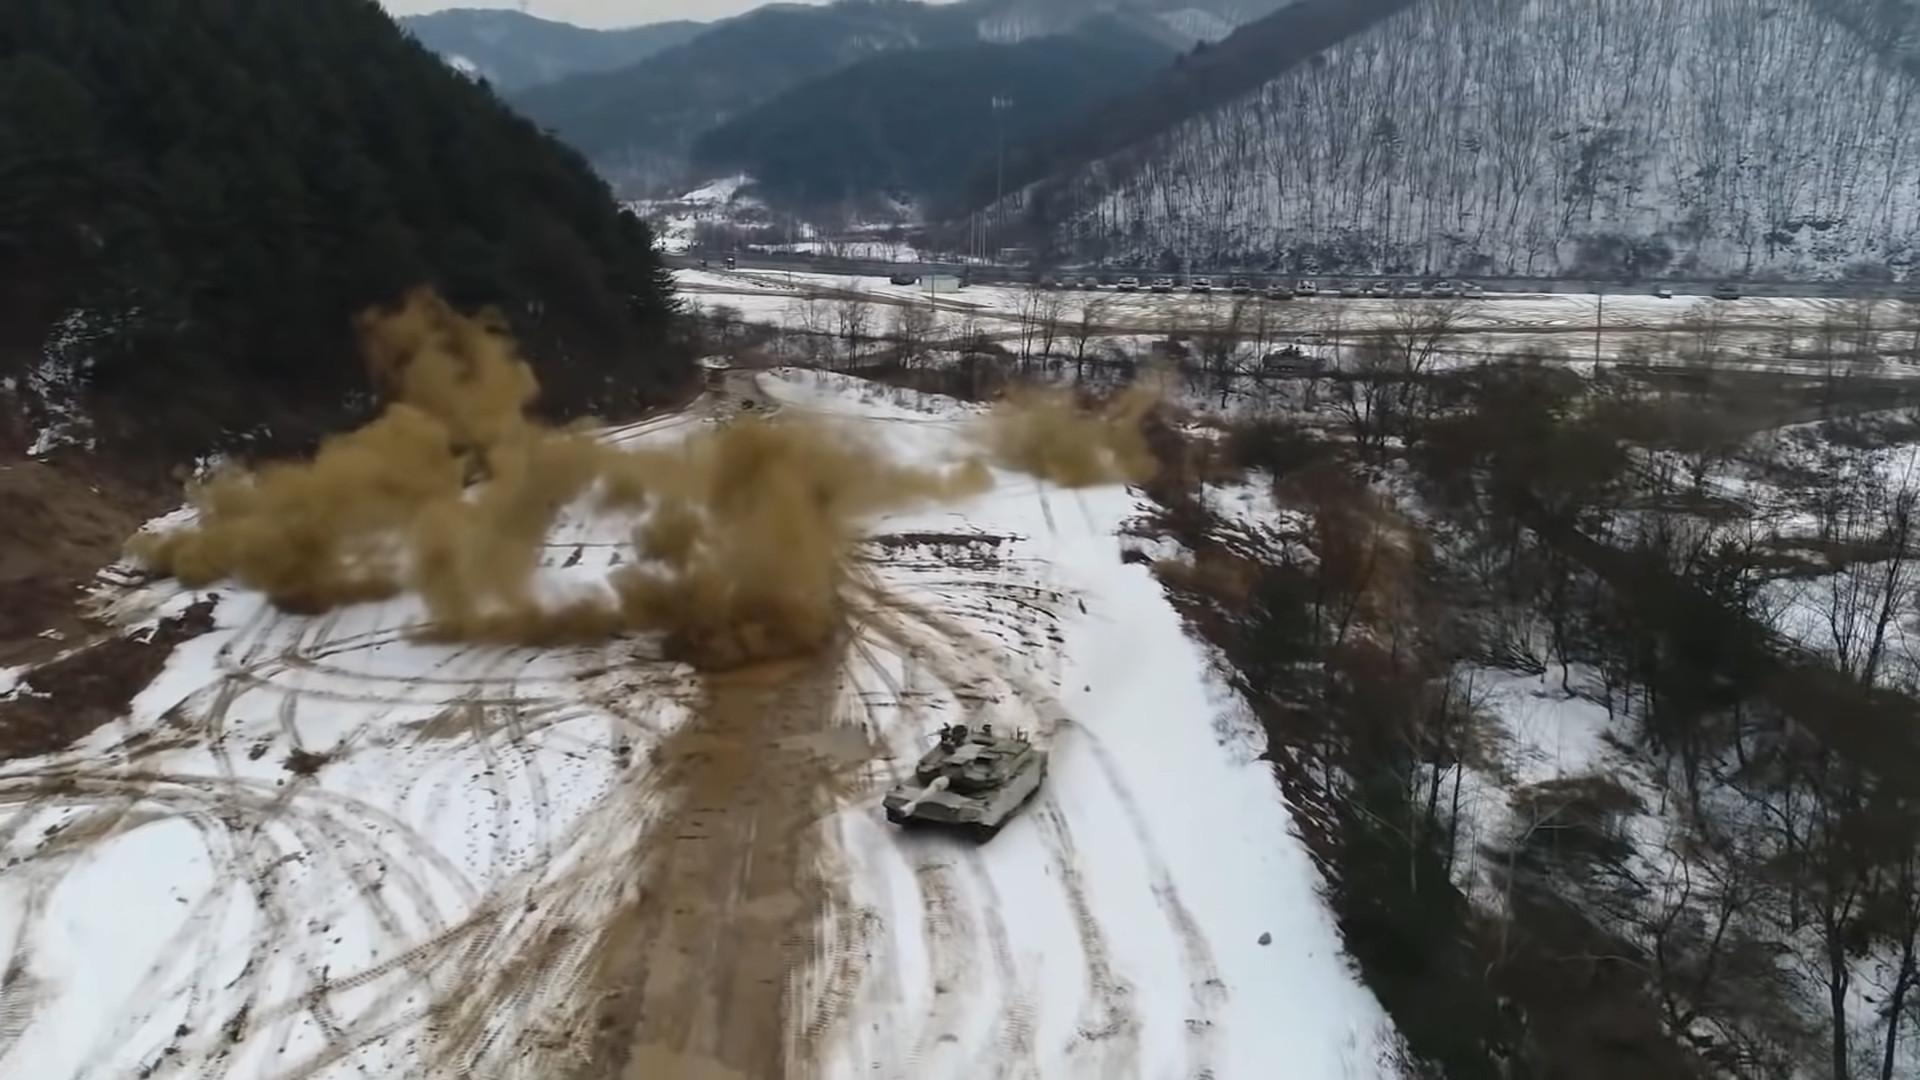tank: (882, 723, 1047, 844)
